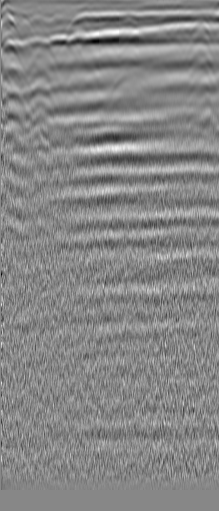오수: (32, 40, 52, 60)
우수: (191, 18, 211, 38)
